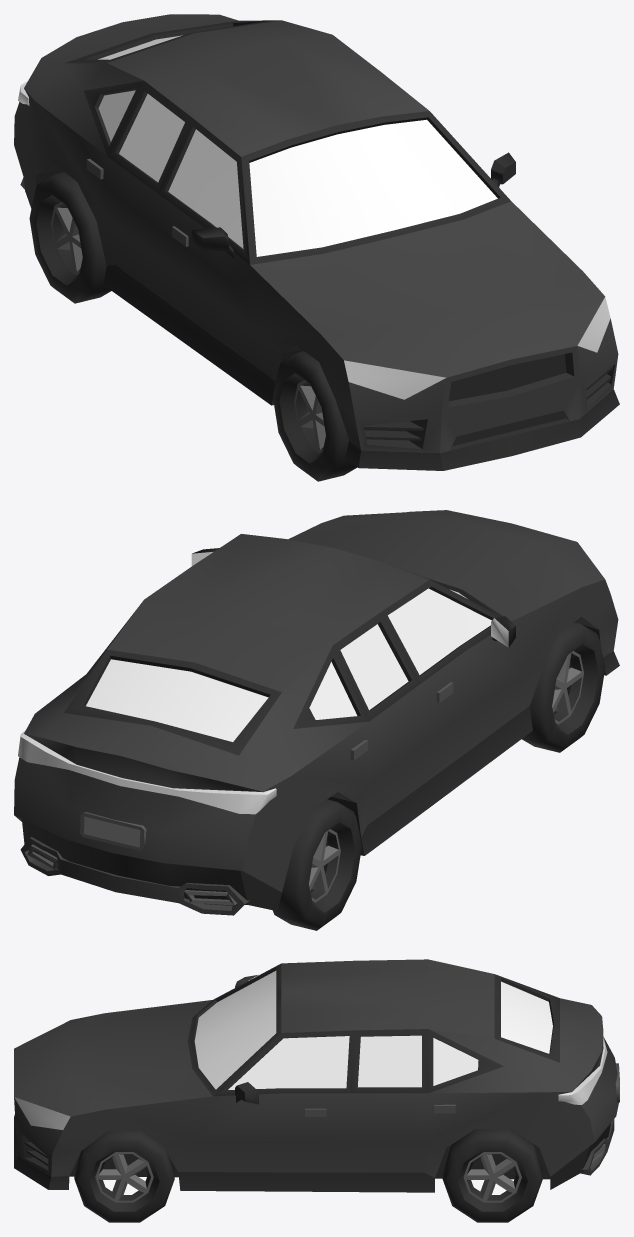
File: coupe.glb
3 renders of one model, top to bottom at view 1: azimuth 30°, elevation 25°; view 2: azimuth 150°, elevation 25°; view 3: azimuth 270°, elevation 25°, orthographic. The views are drawn at different scales.
Parts seen in each view (by area): view 1: coupe, windows, wheel_BR, wheel_FR, headlight_R, headlight_L; view 2: coupe, windows, wheel_BR, wheel_FR, rearlight_R, rearlight_L; view 3: coupe, windows, wheel_BL, wheel_FL, headlight_L, rearlight_L.
Boxes of the visible parts, x1,y1,x2,y2 form: coupe: [14, 14, 619, 470]; windows: [98, 35, 497, 256]; wheel_BR: [29, 172, 111, 303]; wheel_FR: [272, 351, 357, 481]; headlight_R: [344, 360, 446, 399]; headlight_L: [577, 297, 610, 352]; coupe: [14, 510, 619, 915]; windows: [86, 588, 491, 741]; wheel_BR: [272, 799, 361, 930]; wheel_FR: [522, 622, 605, 752]; rearlight_R: [179, 788, 276, 814]; rearlight_L: [18, 730, 71, 769]; coupe: [14, 959, 619, 1192]; windows: [194, 970, 552, 1089]; wheel_BL: [442, 1129, 542, 1222]; wheel_FL: [74, 1131, 174, 1222]; headlight_L: [14, 1097, 70, 1129]; rearlight_L: [558, 1068, 601, 1104].
Size of the model in its own units: 2.35 by 1.74 by 5.14.
Materials: 4 (2 with a texture image).
